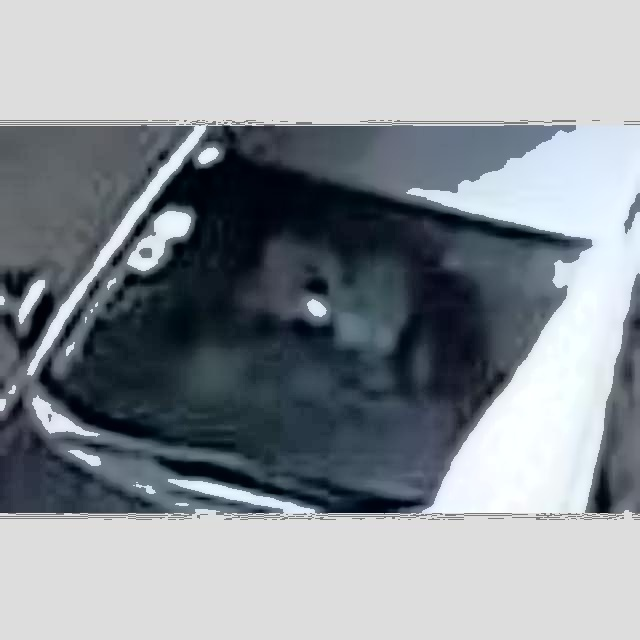tidak-pakai: (217, 202, 440, 414)
